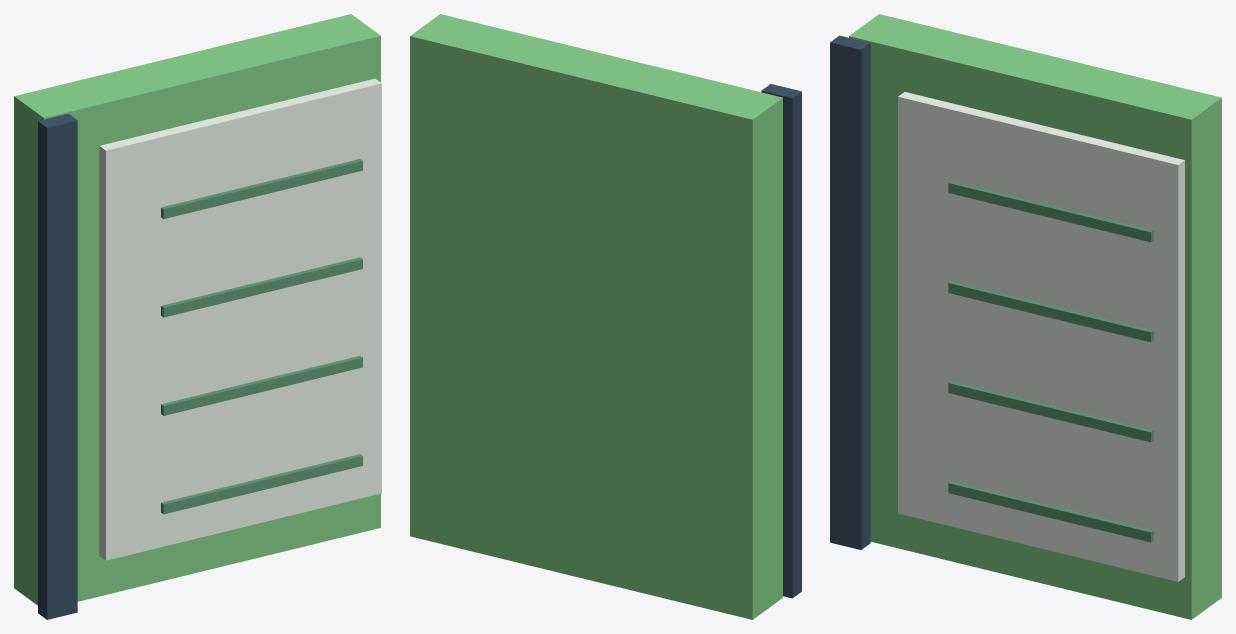
Rendered from floor_book.glb.
3 views of the same model, side by side, from view 1: azimuth 30°, elevation 25°; view 2: azimuth 150°, elevation 25°; view 3: azimuth 330°, elevation 25° (orthographic).
Parts seen in each view (by area): view 1: floor_book; view 2: floor_book; view 3: floor_book.
Boxes of the visible parts, x1,y1,x2,y2 form: floor_book: (14, 14, 381, 619); floor_book: (410, 14, 801, 619); floor_book: (830, 14, 1221, 619).
Size of the model in its own units: 0.22 by 0.3 by 0.045.
